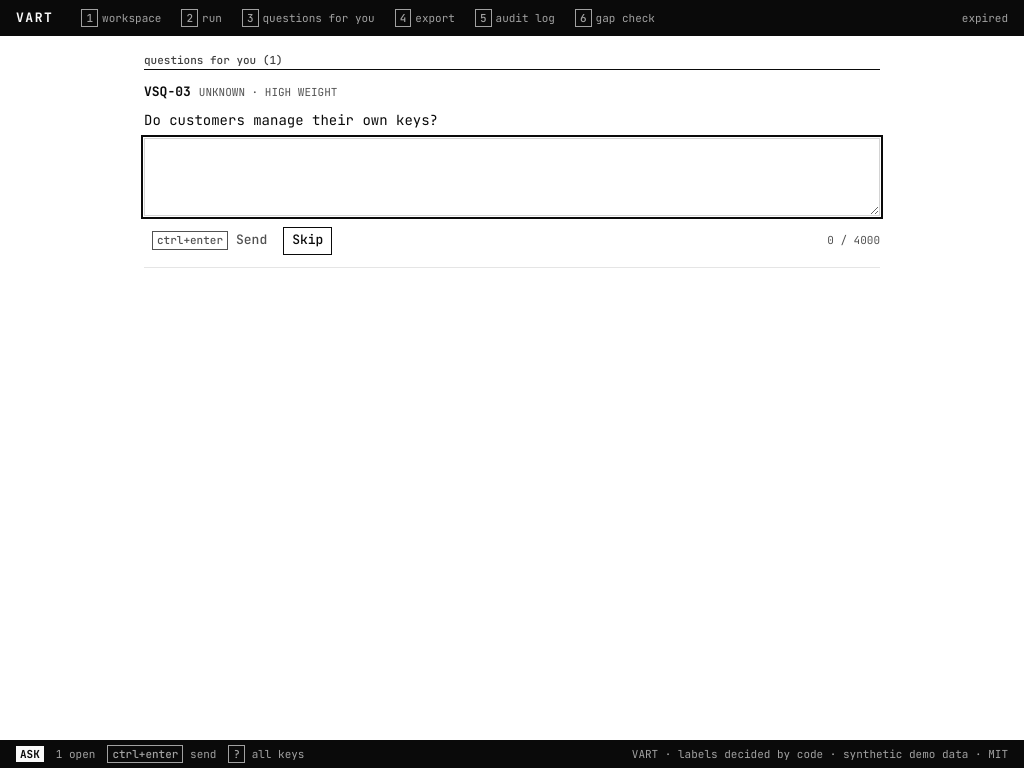
it: Questions › asks the one follow-up, then accepts and offers the suggested fills
Type "Yes, customers can." into the text box named "your answer to VSQ-03" at (512,177), box [144,138,880,216]
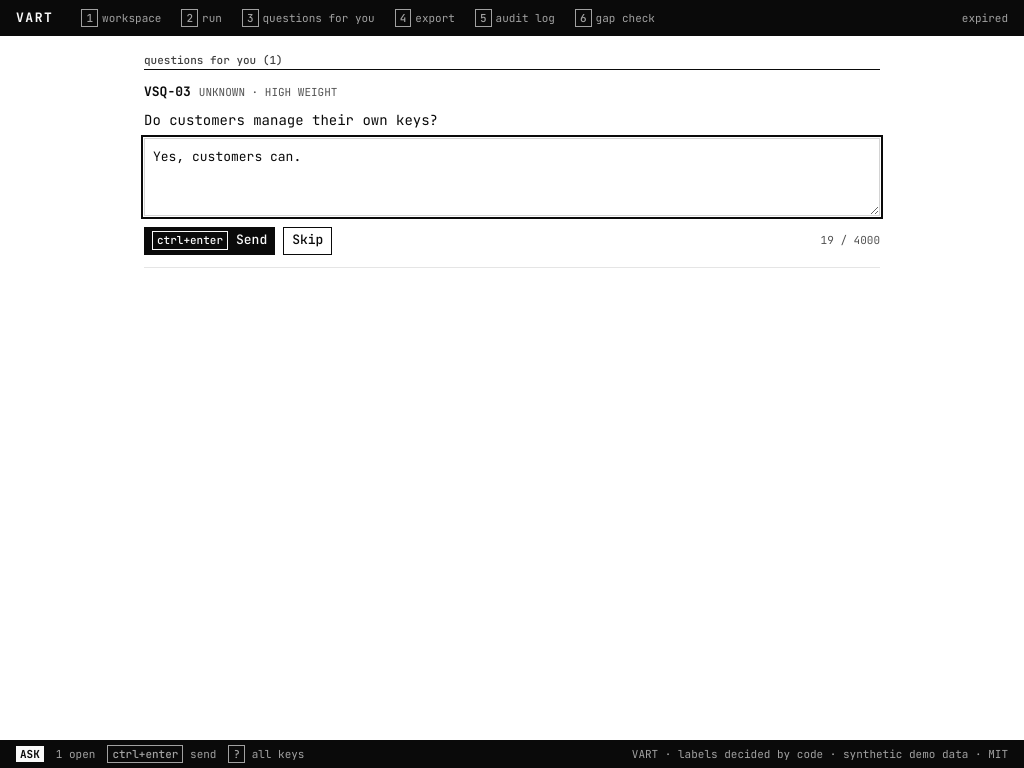
Click the button "ctrl+enter Send" at (210,240), box [144,226,275,254]
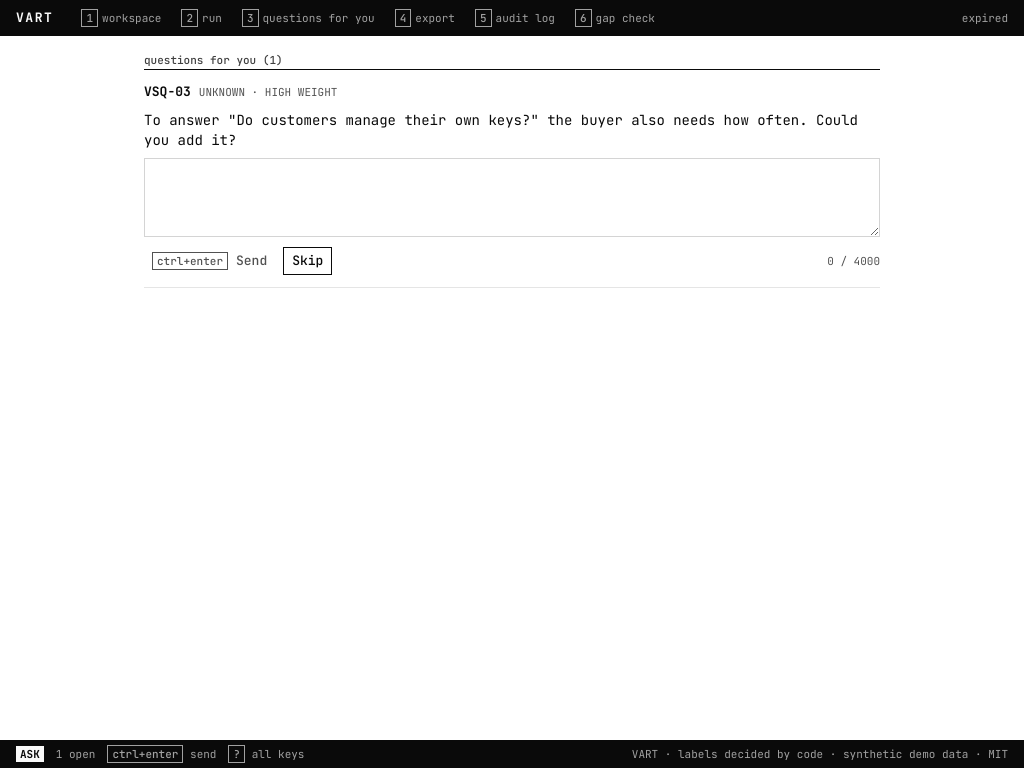
Now the text "also needs how often" is shown, box [144,111,858,149]
Type "They rotate keys every 90 days." into the text box named "your answer to VSQ-03" at (512,197), box [144,158,880,237]
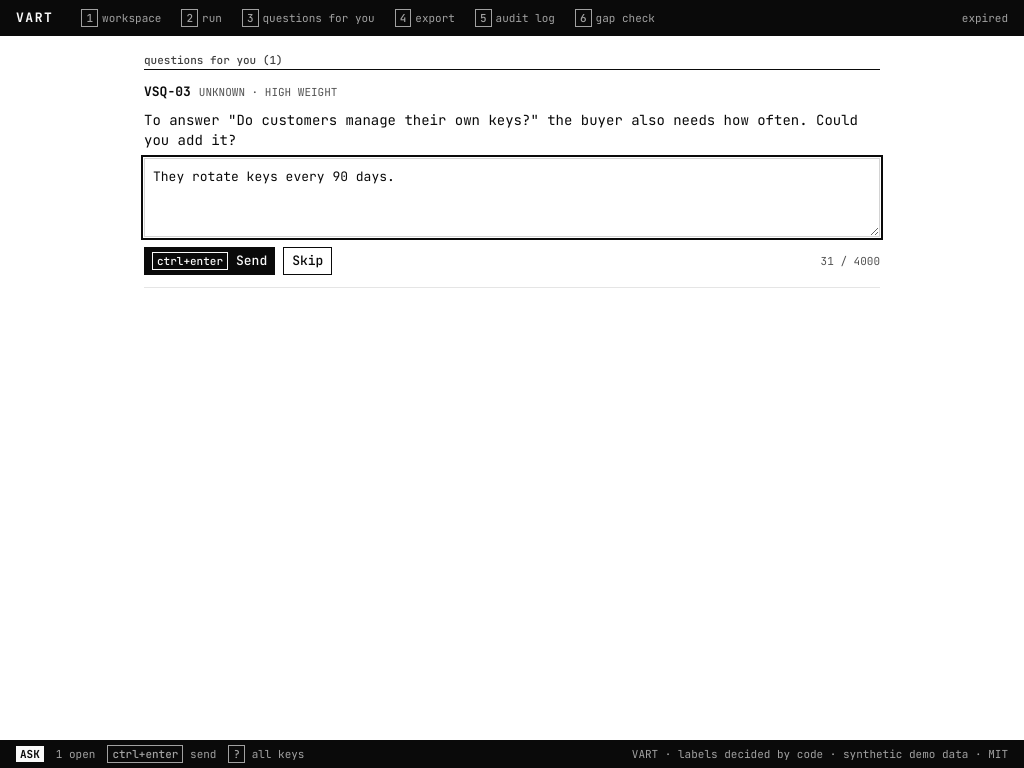
Click the button "ctrl+enter Send" at (210,261), box [144,247,275,275]
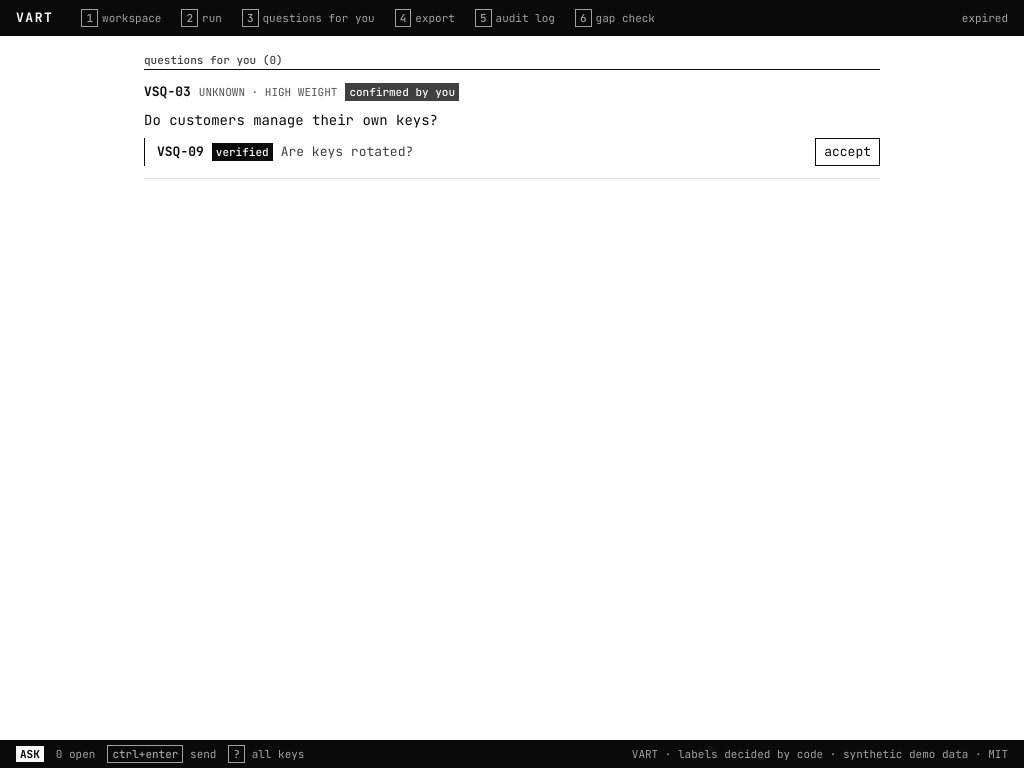
Now the text "confirmed by you" is shown, box [345,82,459,100]
Click the button with aria-label "Accept fill for VSQ-09" at (848,152), box [815,138,880,166]
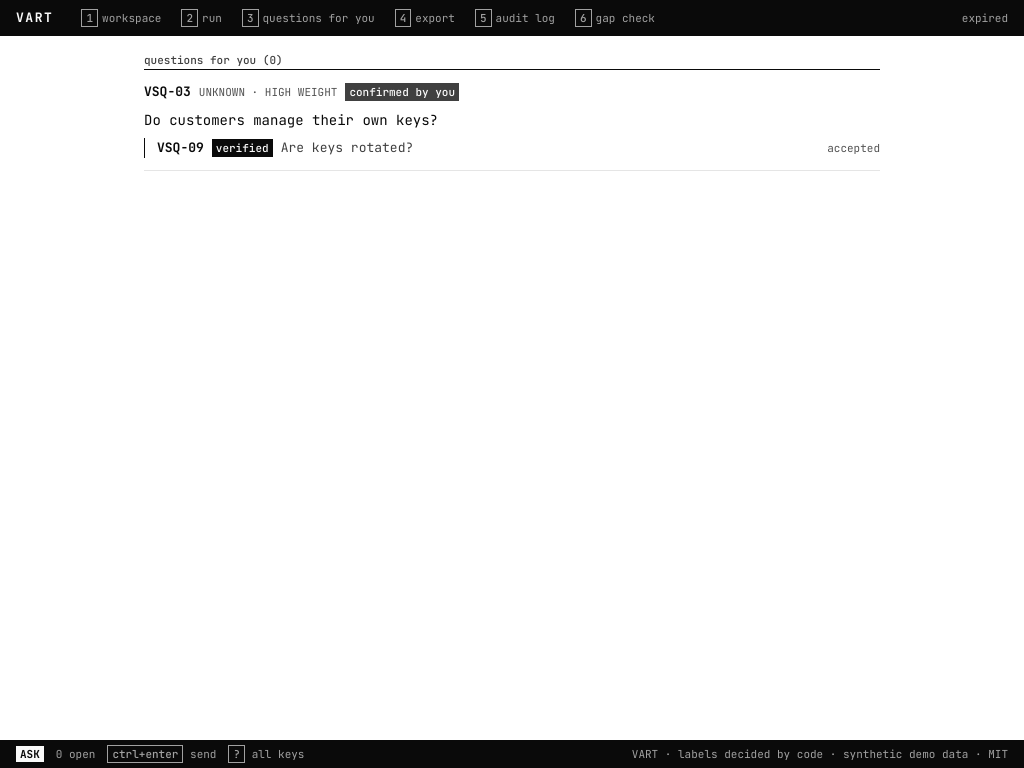
Now the text "accepted" is shown, box [827,140,880,156]
